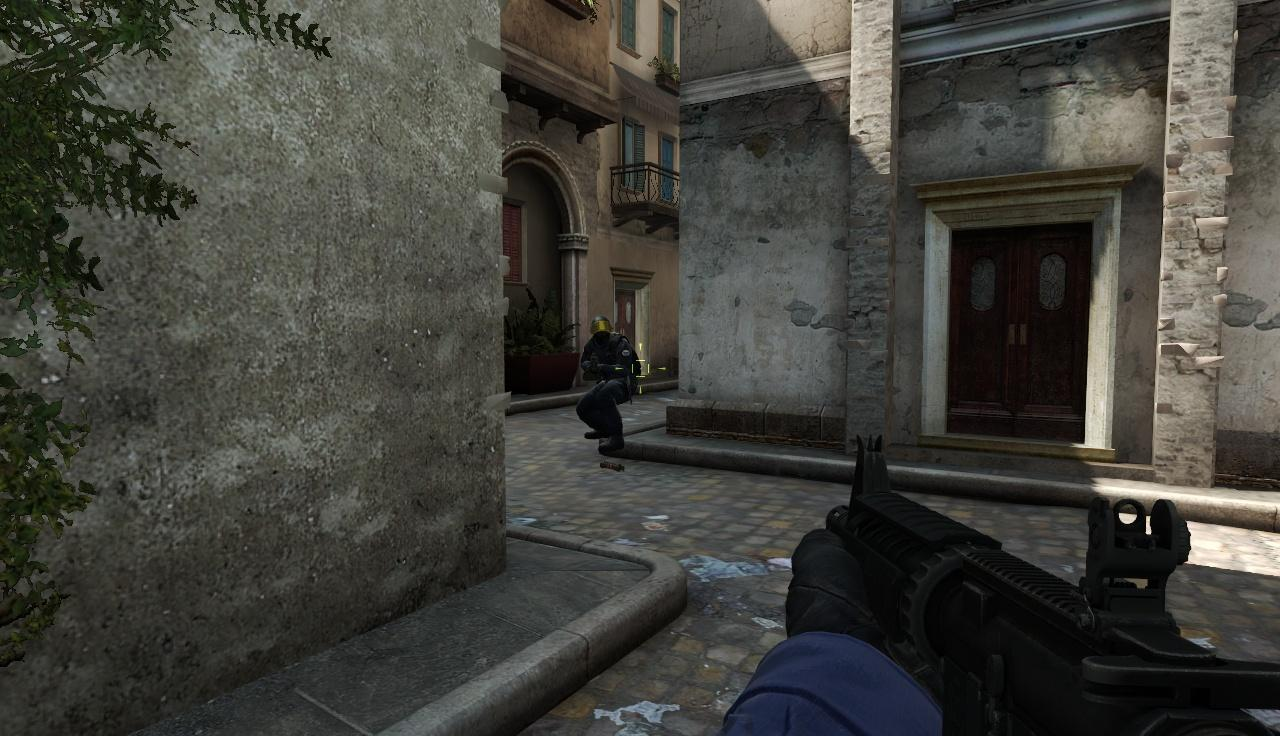ct: (582, 315, 635, 452)
cthead: (590, 316, 614, 338)
rifle: (797, 432, 1280, 736)
